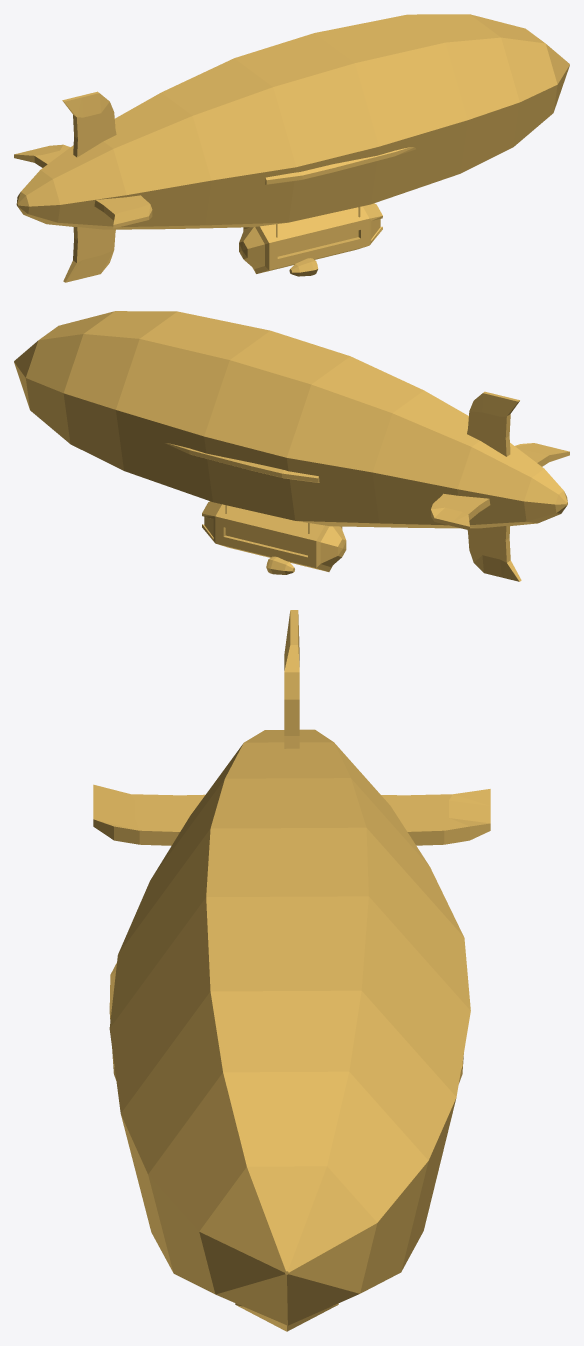
Rendered from gold-blimp.glb.
3 views of the same model, one above another, from view 1: azimuth 30°, elevation 25°; view 2: azimuth 150°, elevation 25°; view 3: azimuth 270°, elevation 25° (orthographic). The views are drawn at different scales.
Parts seen in each view (by area): view 1: Object_4; view 2: Object_4; view 3: Object_4.
Boxes of the visible parts, x1,y1,x2,y2 form: Object_4: [14, 14, 569, 282]; Object_4: [14, 311, 569, 581]; Object_4: [93, 610, 490, 1331].
Bounding box in the file's own units: 67.44 × 25.55 × 21.07.
